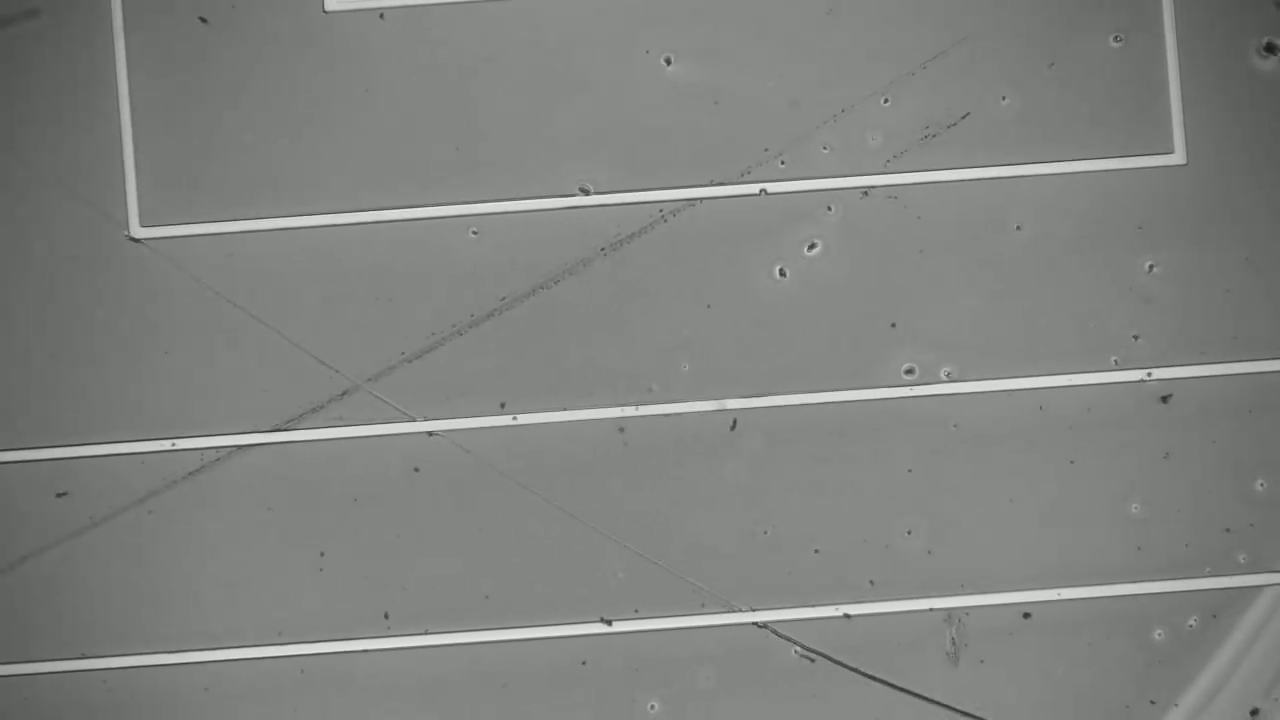edge_bite: (748, 178, 775, 202)
scratch: (5, 33, 968, 564), (136, 243, 753, 611), (763, 622, 987, 720)
stains_enbedded: (584, 610, 622, 639)
